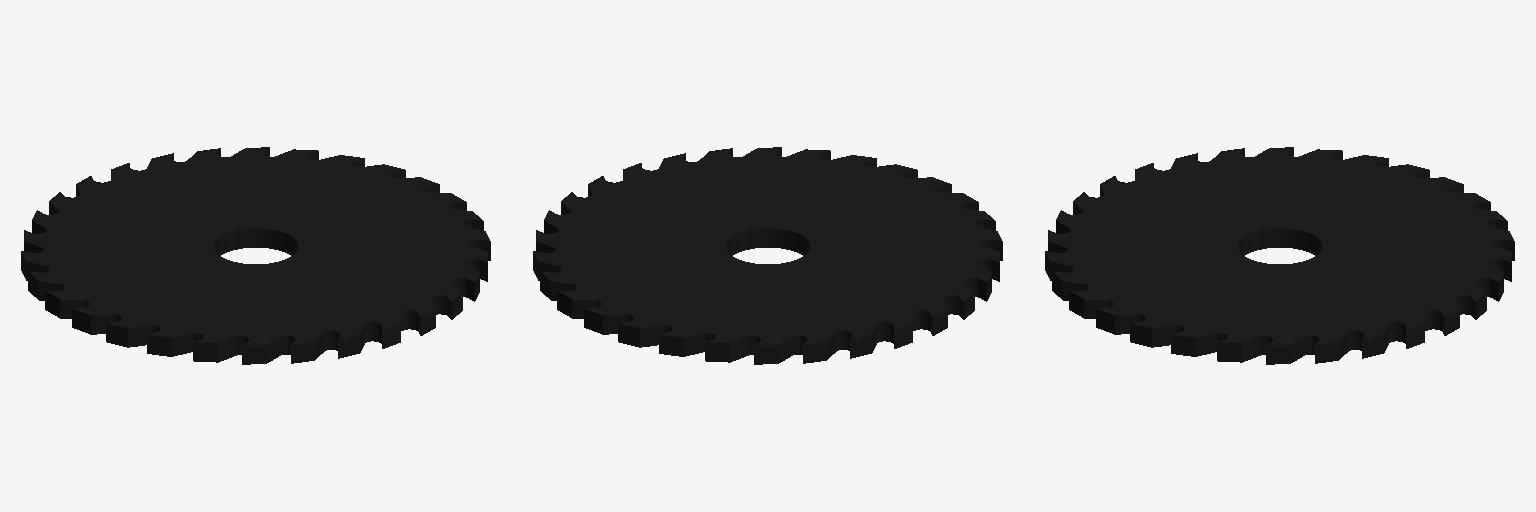
The model's file is scie_ronde.obj.
The picture shows the model from 3 angles: view 1: azimuth 30°, elevation 25°; view 2: azimuth 150°, elevation 25°; view 3: azimuth 270°, elevation 25°; orthographic projection.
Parts seen in each view (by area): view 1: scie_ronde_CouleurScie; view 2: scie_ronde_CouleurScie; view 3: scie_ronde_CouleurScie.
Boxes of the visible parts, x1=… form: scie_ronde_CouleurScie: x1=21, y1=147, x2=490, y2=364; scie_ronde_CouleurScie: x1=533, y1=147, x2=1002, y2=364; scie_ronde_CouleurScie: x1=1045, y1=147, x2=1514, y2=364.
Bounding box in the file's own units: 110 × 5 × 110.